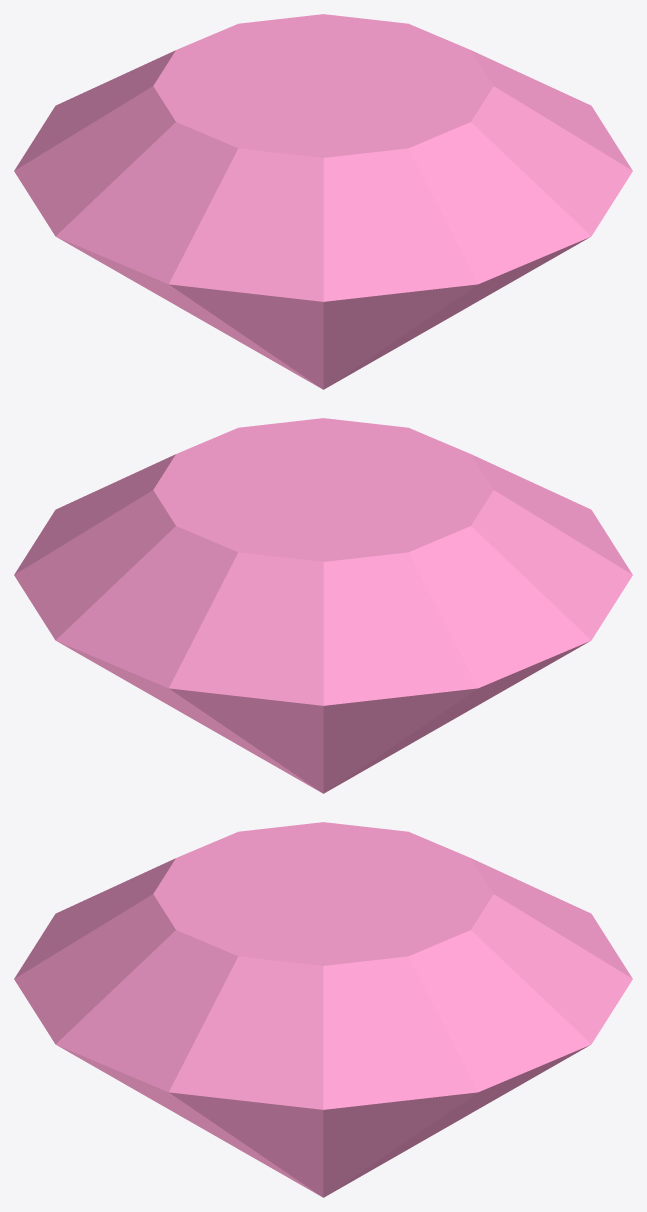
File: pink-gem.glb
The picture shows the model from 3 angles, top to bottom: view 1: azimuth 30°, elevation 25°; view 2: azimuth 150°, elevation 25°; view 3: azimuth 270°, elevation 25°; orthographic projection.
Parts seen in each view (by area): view 1: 粉寶石; view 2: 粉寶石; view 3: 粉寶石.
Part boxes in pixels (bbox=[...]): 粉寶石: bbox=[14, 14, 632, 389]; 粉寶石: bbox=[14, 418, 632, 793]; 粉寶石: bbox=[14, 822, 632, 1197].
Bounding box in the file's own units: 0.24 × 0.13 × 0.24.
